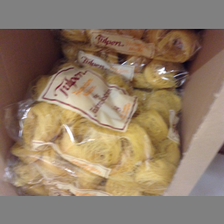pasta: (4, 61, 182, 187)
